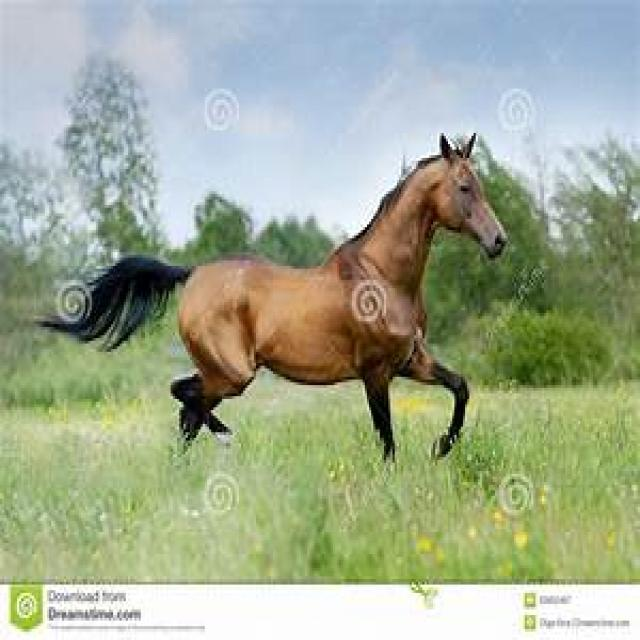horse: (38, 136, 508, 463)
